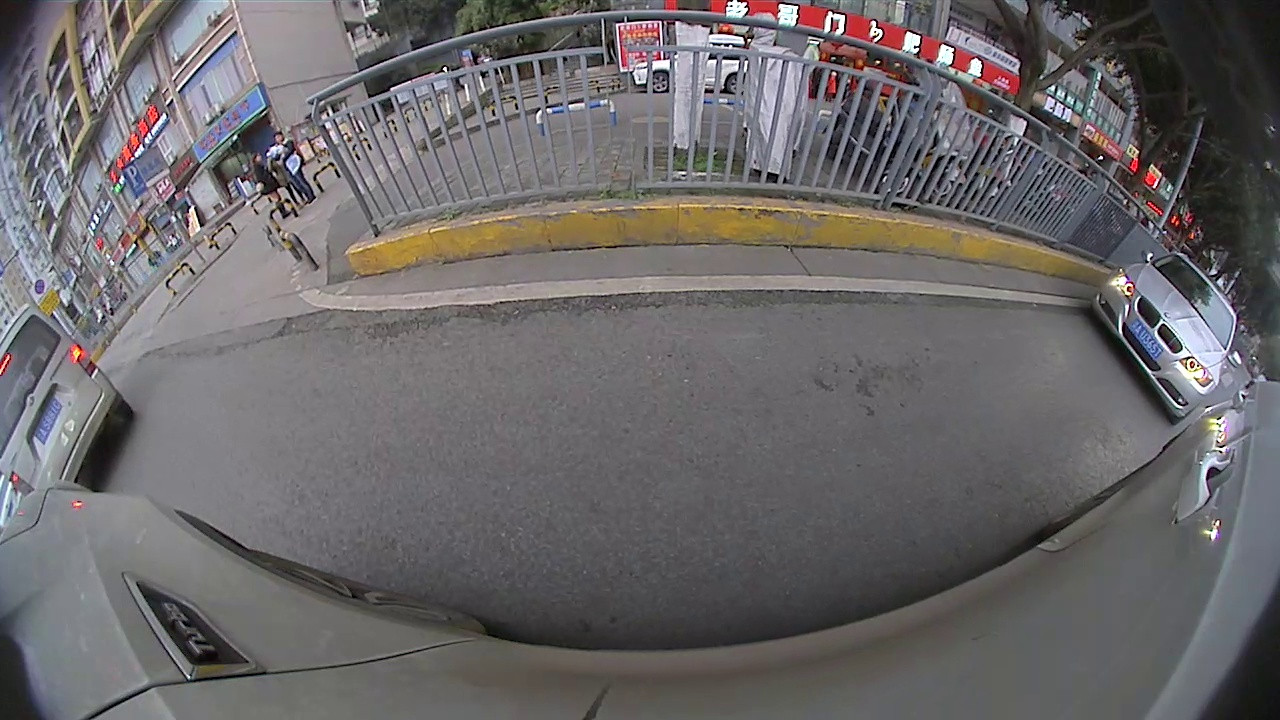car: (1085, 245, 1247, 430), (1, 296, 138, 501)
front: (644, 69, 672, 95)
person: (272, 127, 301, 172), (251, 150, 274, 195)
rear: (725, 74, 750, 98)
rider: (819, 56, 964, 208)
